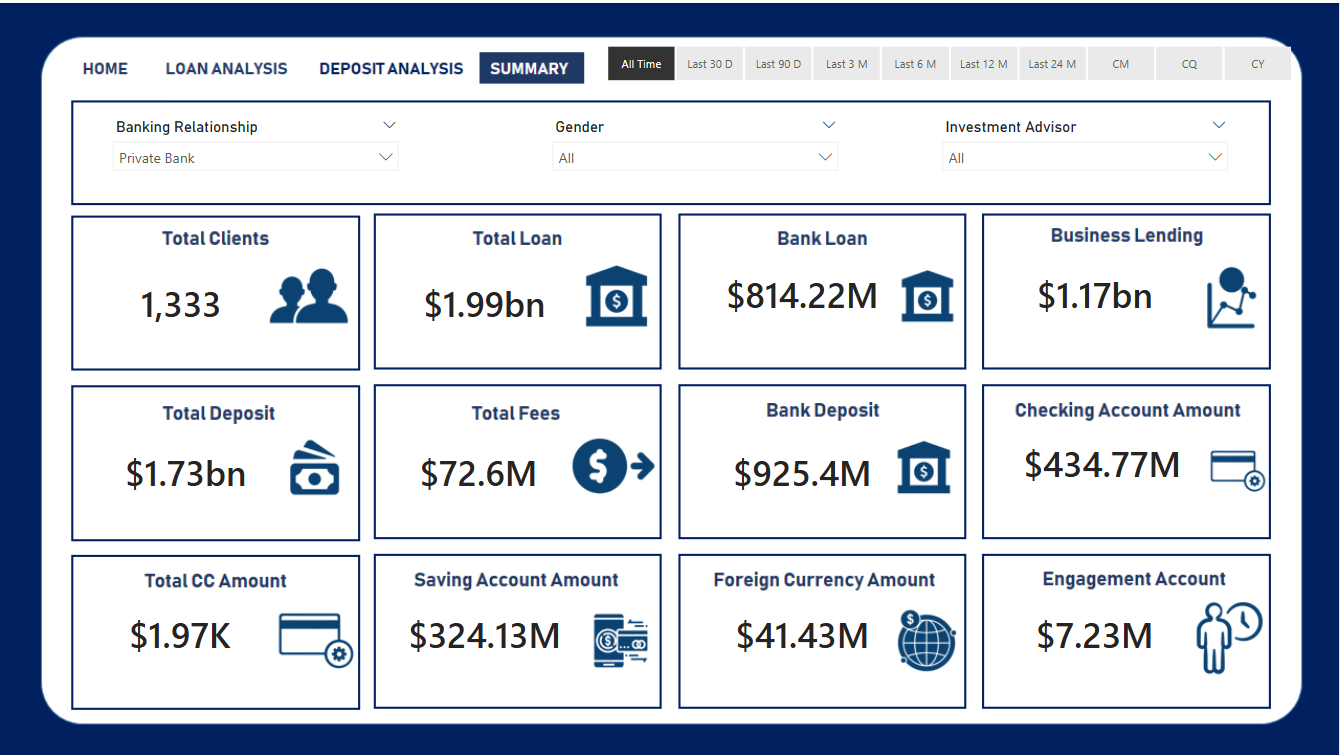

Layout of this report page (visuals, bound fields, positions):
{"tool":"powerbi","page":{"name":"Summary","canvas":[1280,720],"ordinal":3},"visuals":[{"type":"card","fields":{"Values":["DAX Measures.Engagment Length"]},"box":[946.3,546.4,198.2,114.9],"z":0},{"type":"card","fields":{"Values":["DAX Measures.Foreign Currency Account"]},"box":[667.2,546.4,198.2,114.9],"z":1000},{"type":"card","fields":{"Values":["DAX Measures.Bank Deposit"]},"box":[667.2,390.5,198.2,114.9],"z":2000},{"type":"card","fields":{"Values":["DAX Measures.Checking Accounts"]},"box":[953.4,382.3,198.2,114.9],"z":3000},{"type":"card","fields":{"Values":["DAX Measures.Bank Loan"]},"box":[667.2,220.5,198.2,114.9],"z":4000},{"type":"card","fields":{"Values":["DAX Measures.Business Lending"]},"box":[953.4,220.5,184.1,114.9],"z":5000},{"type":"card","fields":{"Values":["DAX Measures.Savings Account"]},"box":[360,546.4,207.6,114.9],"z":6000},{"type":"card","fields":{"Values":["DAX Measures.Total CC Amount"]},"box":[72.7,546.4,198.2,114.9],"z":7000},{"type":"card","fields":{"Values":["DAX Measures.Total Deposit"]},"box":[78.6,390.5,198.2,114.9],"z":8000},{"type":"card","fields":{"Values":["DAX Measures.Total Fees"]},"box":[365.9,390.5,184.1,114.9],"z":9000},{"type":"card","fields":{"Values":["DAX Measures.Total Clients"]},"box":[75,228.7,198.2,114.9],"z":10000},{"type":"card","fields":{"Values":["DAX Measures.Total Loan"]},"box":[365.9,228.7,195.8,114.9],"z":11000},{"type":"slicer","fields":{"Values":["Banking Relationship.Banking Relationship"]},"box":[98.5,104.3,292.9,75.7],"z":12000},{"type":"slicer","fields":{"Values":["Gender.Gender"]},"box":[518.9,104.3,292.9,75.7],"z":13000},{"type":"slicer","fields":{"Values":["Investment Advisor.Investment Advisor"]},"box":[891.3,104.3,292.9,75.7],"z":14000},{"type":"slicer","fields":{"Values":["Period.Name"]},"box":[555.2,34.6,702.1,46.6],"z":15000},{"type":"actionButton","box":[72.8,44.2,58.5,31],"z":16000},{"type":"actionButton","box":[306.9,44.7,119.4,31],"z":17000},{"type":"actionButton","box":[297.9,44.6,147.8,30.5],"z":18000},{"type":"actionButton","box":[157.1,44.6,125.5,30.5],"z":19000}]}

Visuals, with their boxes in screenshot pixels (x1, y1, x2, y2), scaled from the page's 1280x720 canvas onto the 1340x755 screenshot:
card - DAX Measures.Engagment Length: BBox(991, 573, 1198, 693)
card - DAX Measures.Foreign Currency Account: BBox(698, 573, 906, 693)
card - DAX Measures.Bank Deposit: BBox(698, 409, 906, 530)
card - DAX Measures.Checking Accounts: BBox(998, 401, 1206, 521)
card - DAX Measures.Bank Loan: BBox(698, 231, 906, 352)
card - DAX Measures.Business Lending: BBox(998, 231, 1191, 352)
card - DAX Measures.Savings Account: BBox(377, 573, 594, 693)
card - DAX Measures.Total CC Amount: BBox(76, 573, 284, 693)
card - DAX Measures.Total Deposit: BBox(82, 409, 290, 530)
card - DAX Measures.Total Fees: BBox(383, 409, 576, 530)
card - DAX Measures.Total Clients: BBox(79, 240, 286, 360)
card - DAX Measures.Total Loan: BBox(383, 240, 588, 360)
slicer - Banking Relationship.Banking Relationship: BBox(103, 109, 410, 189)
slicer - Gender.Gender: BBox(543, 109, 850, 189)
slicer - Investment Advisor.Investment Advisor: BBox(933, 109, 1240, 189)
slicer - Period.Name: BBox(581, 36, 1316, 85)
actionButton: BBox(76, 46, 137, 79)
actionButton: BBox(321, 47, 446, 79)
actionButton: BBox(312, 47, 467, 79)
actionButton: BBox(164, 47, 296, 79)
